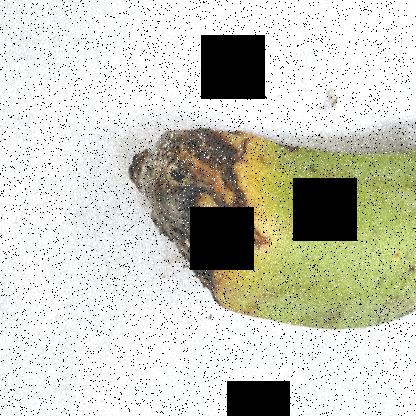rotten: (117, 102, 297, 354)
